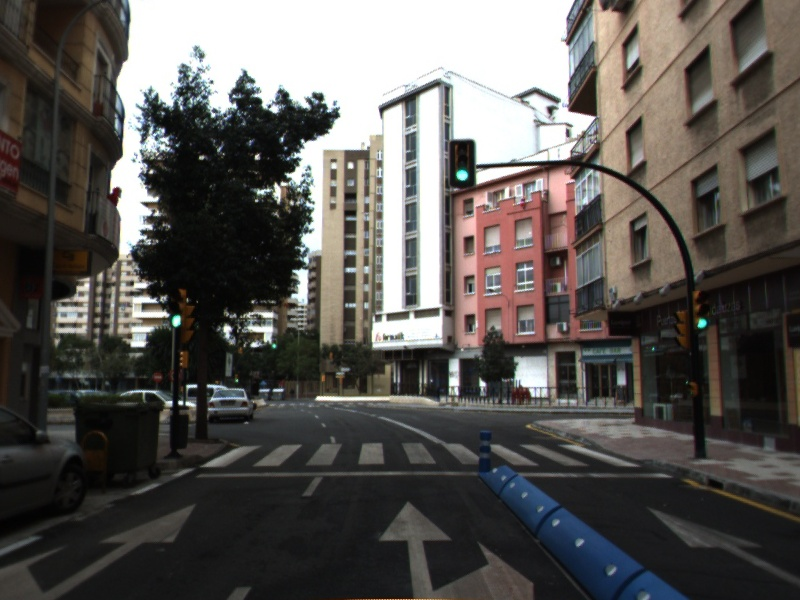STRAIGHT: (639, 502, 800, 587)
STRAIGHT_LEFT: (1, 498, 202, 600)
STRAIGHT_RIGHT: (374, 496, 541, 600)
